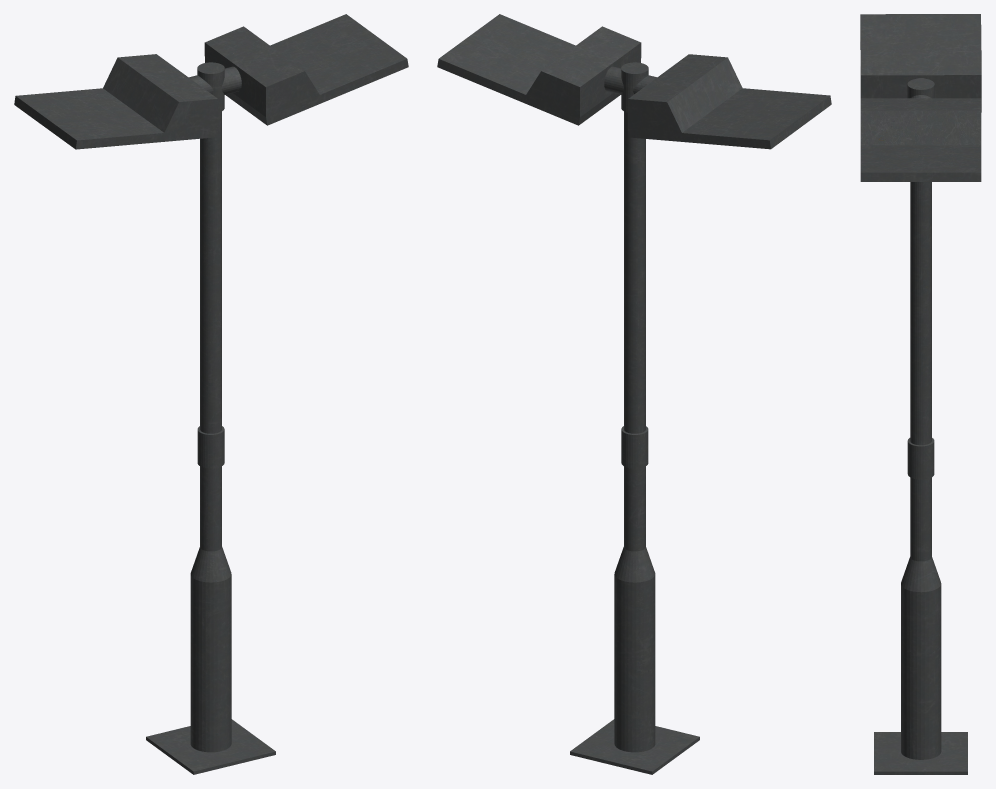
Rendered from carparklamppost.gltf.
3 views of the same model, side by side, from view 1: azimuth 30°, elevation 25°; view 2: azimuth 150°, elevation 25°; view 3: azimuth 270°, elevation 25° (orthographic).
Parts seen in each view (by area): view 1: Plane; view 2: Plane; view 3: Plane.
Boxes of the visible parts, x1,y1,x2,y2 form: Plane: (14,14,408,774); Plane: (437,14,831,774); Plane: (860,14,981,774).
Bounding box in the file's own units: 3.78 × 7.39 × 1.2.
